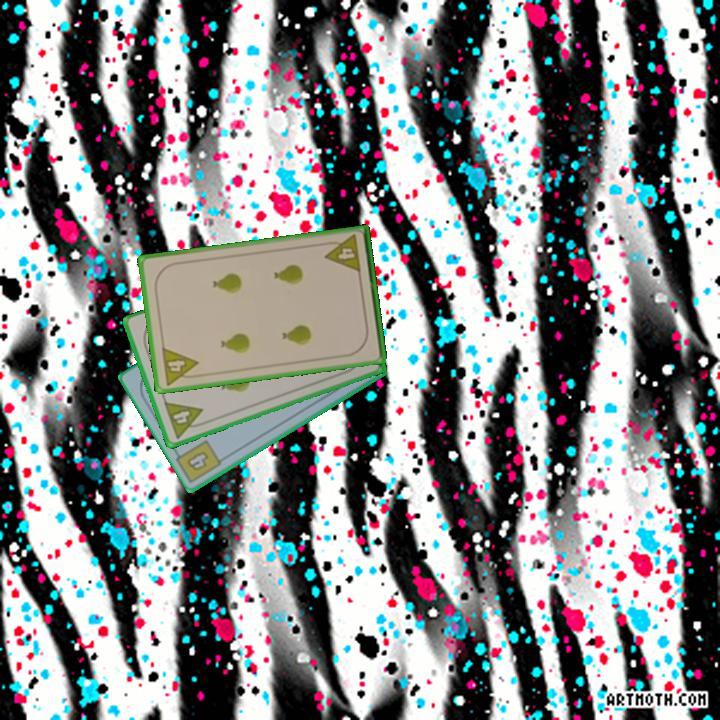4b: (183, 448, 211, 474)
4p: (160, 398, 210, 441), (158, 344, 202, 388), (321, 231, 364, 276)
